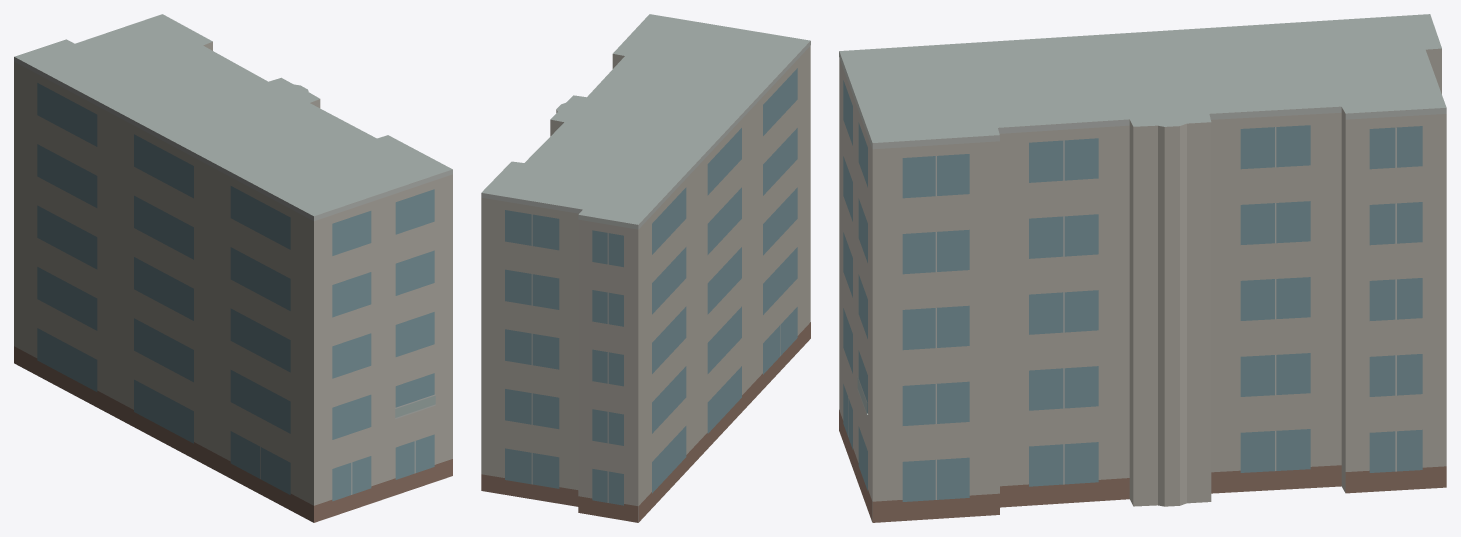
File: survey-upis-32549445.glb
3 views of the same model, side by side, from view 1: azimuth 30°, elevation 25°; view 2: azimuth 150°, elevation 25°; view 3: azimuth 270°, elevation 25° (orthographic). The views are drawn at different scales.
Parts seen in each view (by area): view 1: survey-upis-32549445.tmp; view 2: survey-upis-32549445.tmp; view 3: survey-upis-32549445.tmp.
Boxes of the visible parts, left/top/right/bottom form: survey-upis-32549445.tmp: left=14, top=14, right=452, bottom=522; survey-upis-32549445.tmp: left=481, top=14, right=810, bottom=522; survey-upis-32549445.tmp: left=839, top=14, right=1446, bottom=522.
Bounding box in the file's own units: 11.02 × 15.1 × 21.9.
